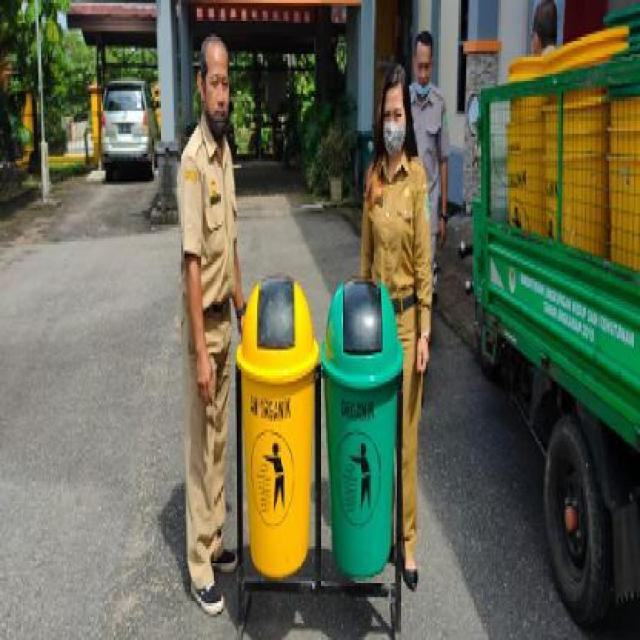garbage container: (320, 270, 406, 598), (234, 268, 318, 594)
